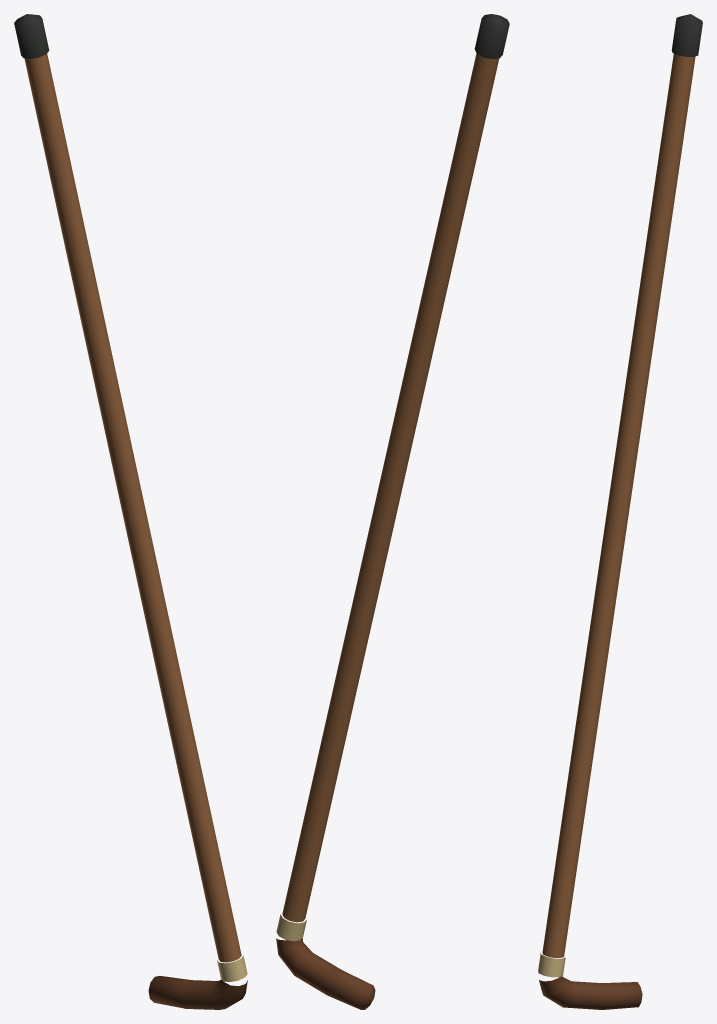
The model's file is old-cane-read.glb.
3 views of the same model, side by side, from view 1: azimuth 30°, elevation 25°; view 2: azimuth 210°, elevation 25°; view 3: azimuth 270°, elevation 25° (orthographic). The views are drawn at different scales.
Parts seen in each view (by area): view 1: Acc_Male_Hand_Cane; view 2: Acc_Male_Hand_Cane; view 3: Acc_Male_Hand_Cane.
Boxes of the visible parts, bbox=[...] form: Acc_Male_Hand_Cane: bbox=[14, 14, 247, 1009]; Acc_Male_Hand_Cane: bbox=[276, 14, 509, 1009]; Acc_Male_Hand_Cane: bbox=[538, 14, 702, 1009].
Bounding box in the file's own units: 16.17 × 97.27 × 15.38.
